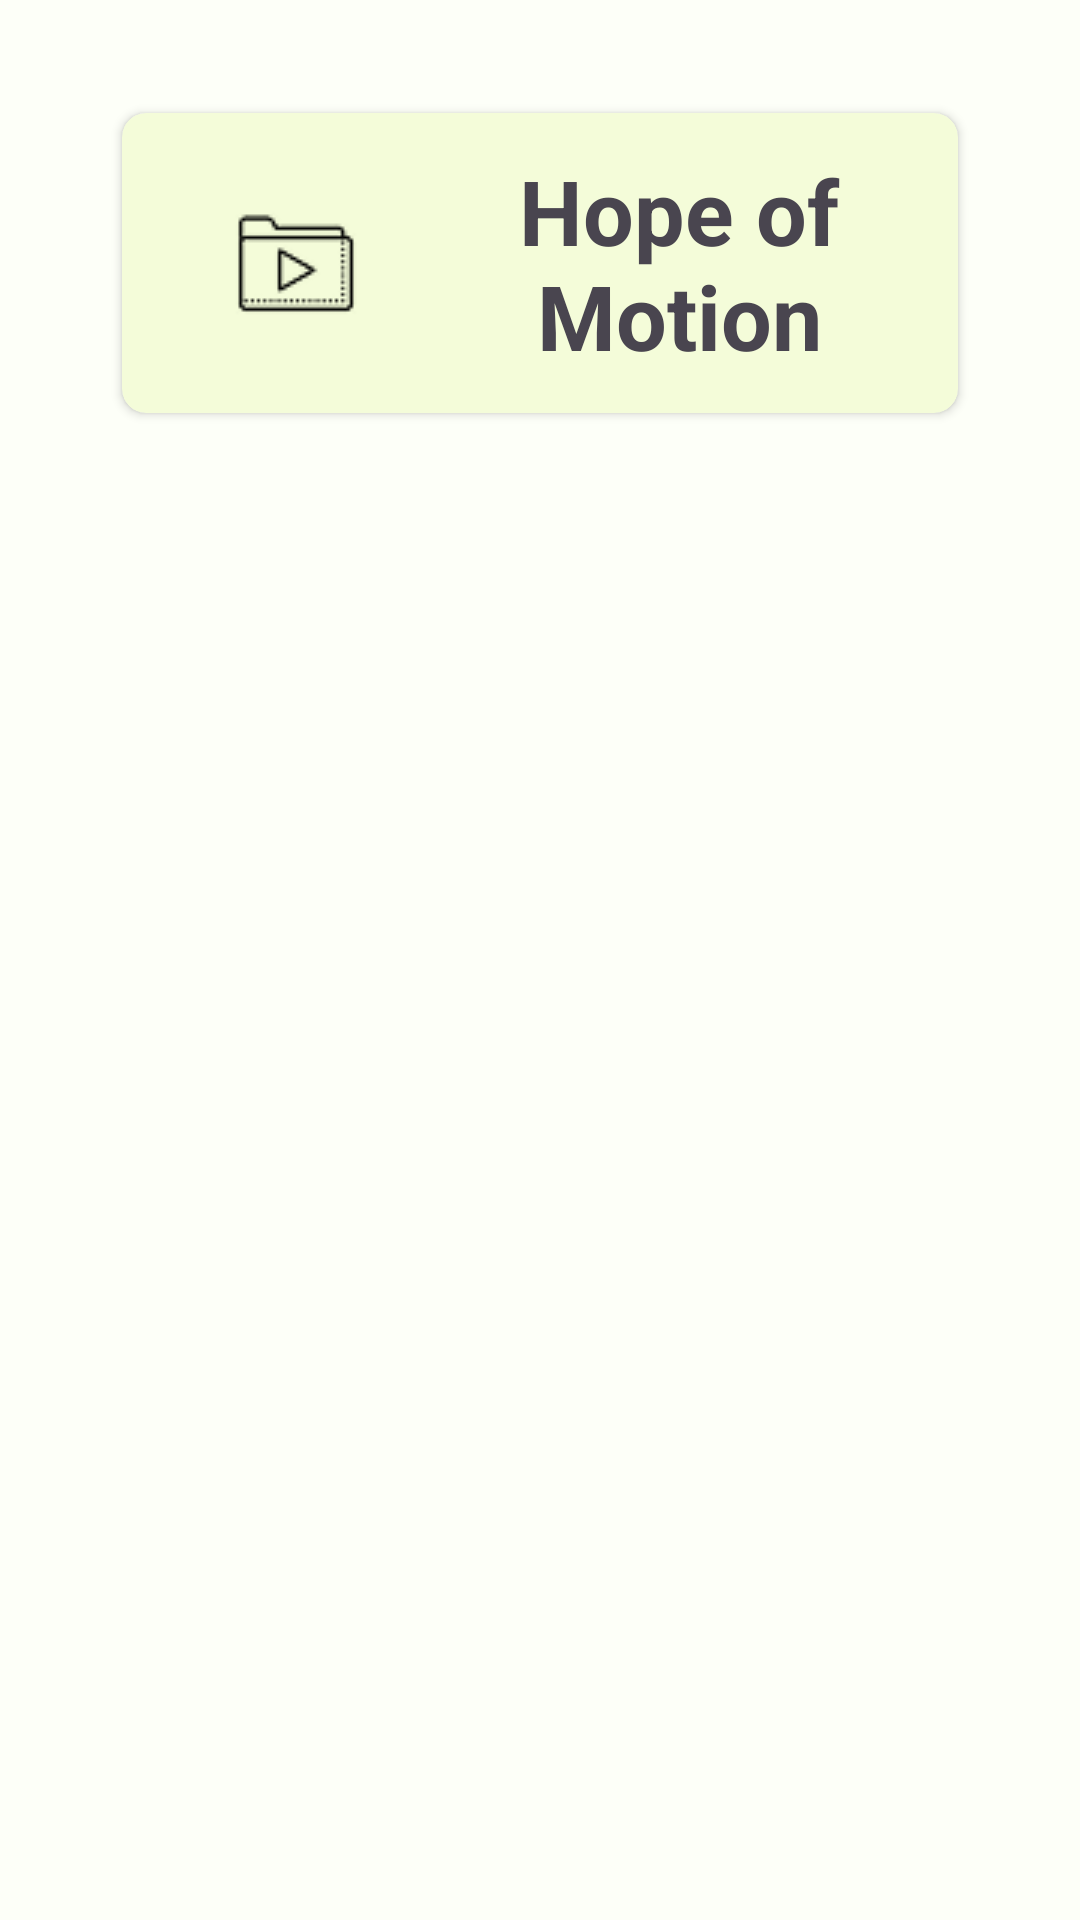

Screen size 1080w x 1920h. Icon name, then its center in pixels as (x,y):
Video header icon: (296,263)
